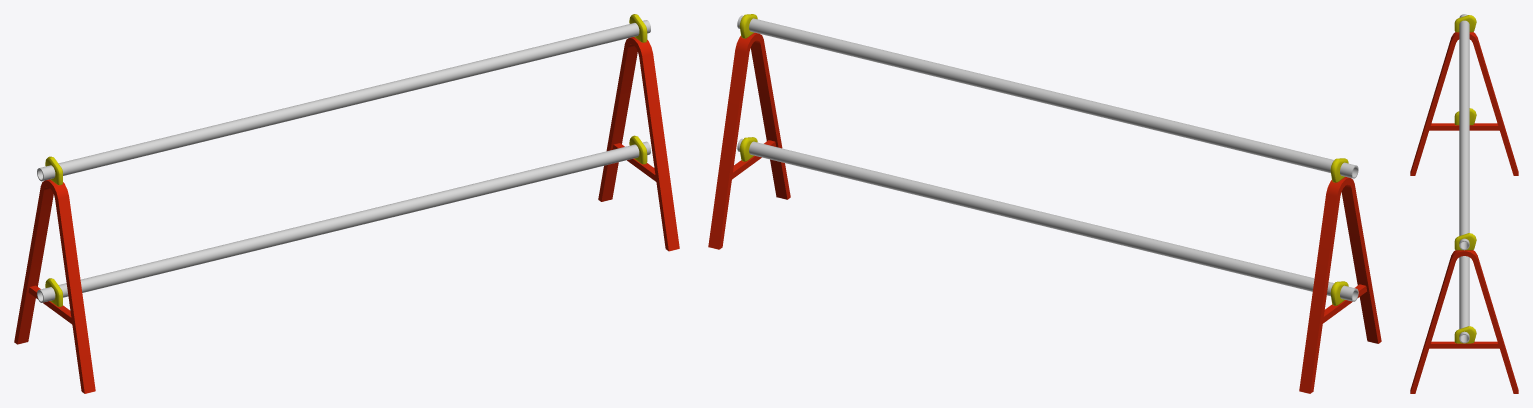
Rendered from pipe-barricade-set.fbx.
The picture shows the model from 3 angles, left to right: view 1: azimuth 30°, elevation 25°; view 2: azimuth 150°, elevation 25°; view 3: azimuth 270°, elevation 25°; orthographic projection. The views are drawn at different scales.
Parts seen in each view (by area): view 1: pipe, pipe-barricade; view 2: pipe, pipe-barricade; view 3: pipe-barricade, pipe.
Part boxes in pixels (left/top/right/bottom): pipe: left=37, top=20, right=650, bottom=302; pipe-barricade: left=14, top=14, right=679, bottom=393; pipe: left=737, top=15, right=1358, bottom=301; pipe-barricade: left=708, top=14, right=1381, bottom=393; pipe-barricade: left=1410, top=15, right=1518, bottom=393; pipe: left=1459, top=14, right=1469, bottom=343.
Size of the model in its own units: 208 by 67.84 by 41.93.
